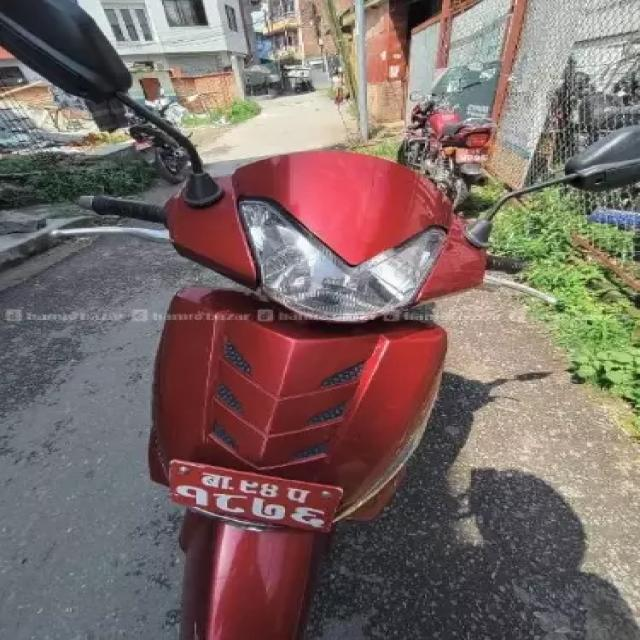License-plate: (168, 459, 344, 539)
